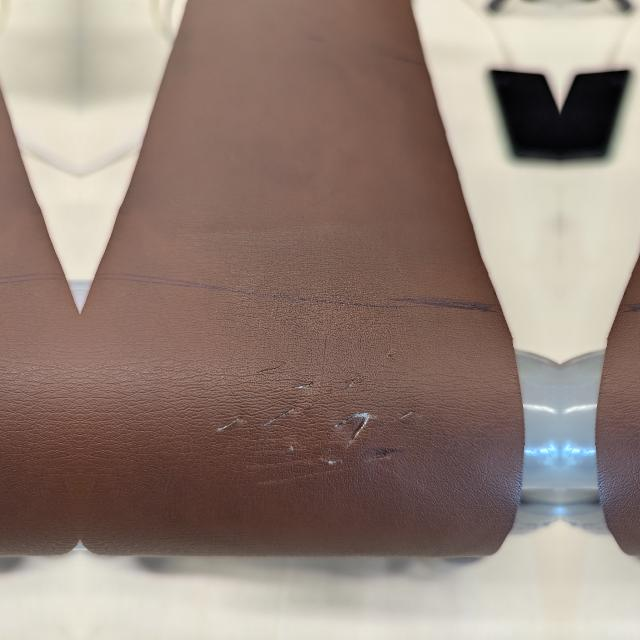belt_crack: (216, 331, 438, 480)
